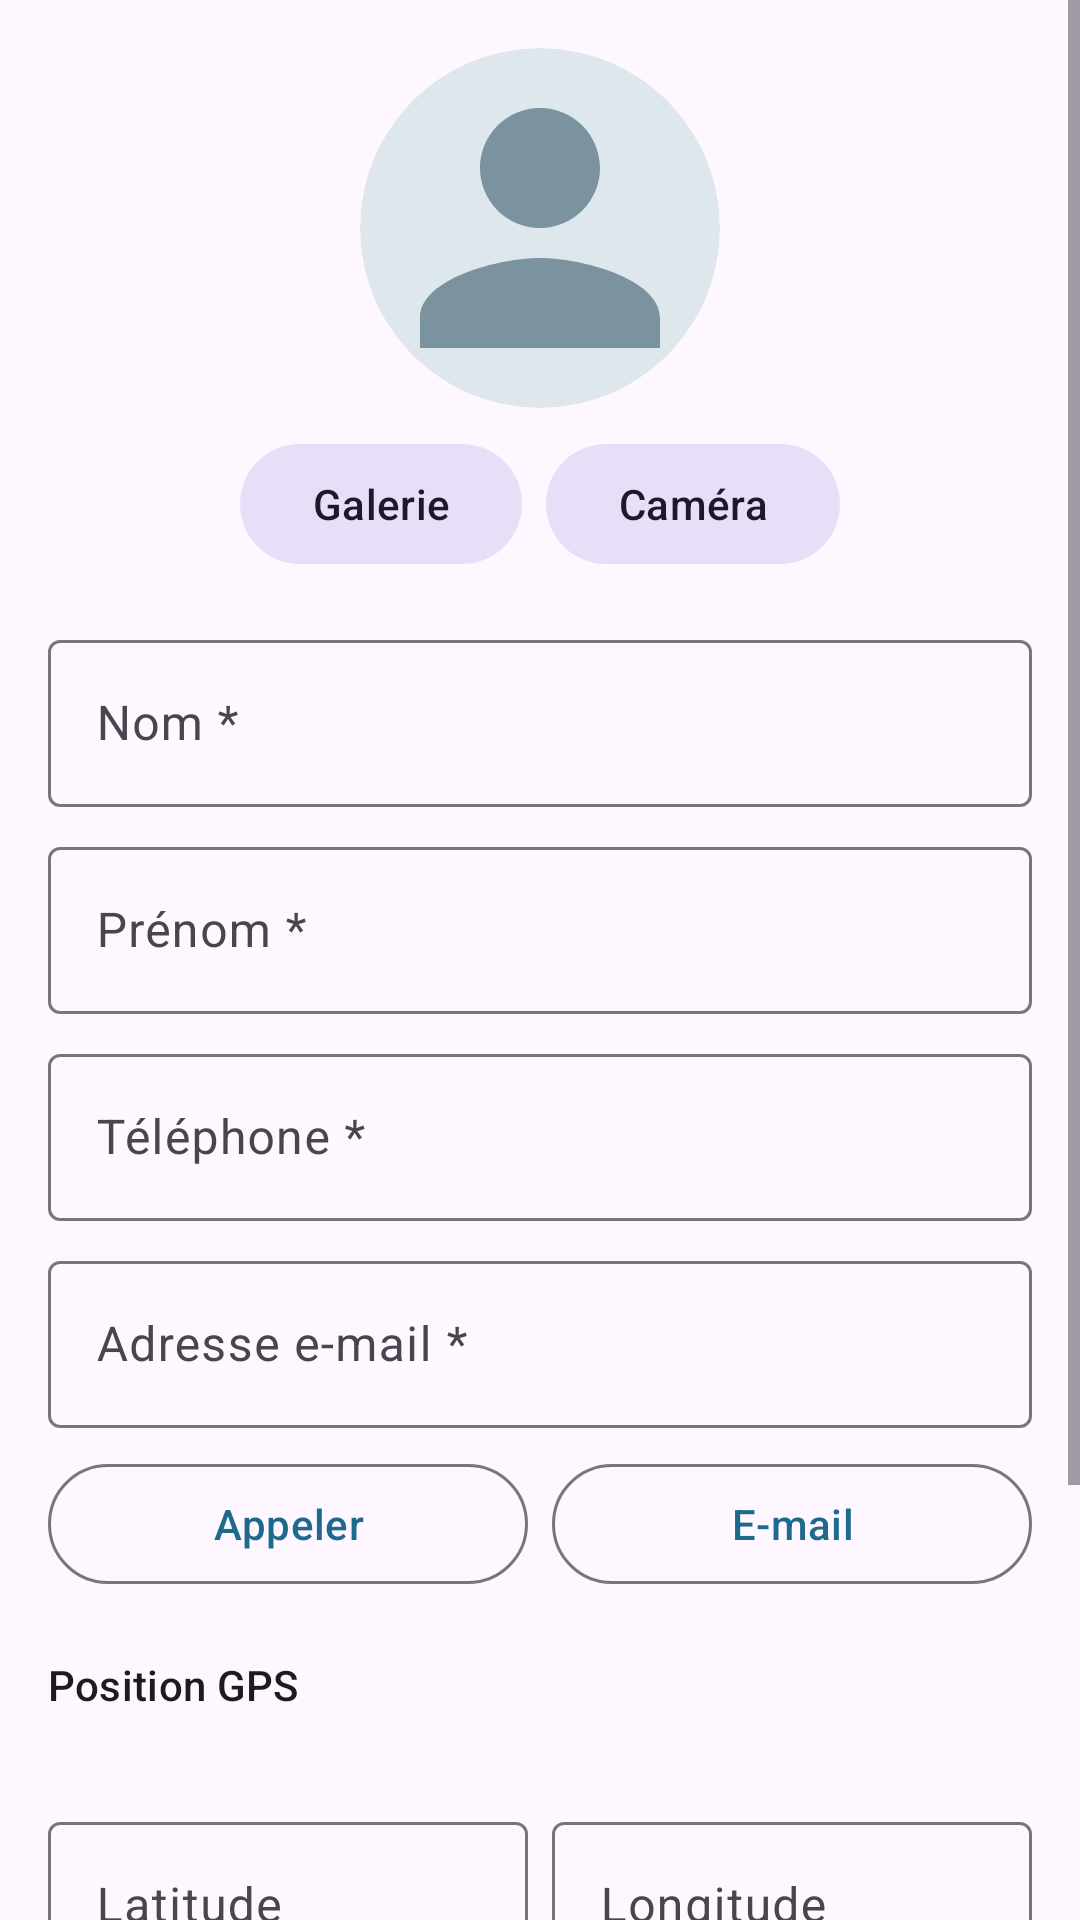

Where icons sit on this 1080 x 1920 app screen, as box=[x1, y1, x2, y2]:
Photo du contact: box=[360, 48, 720, 408]
